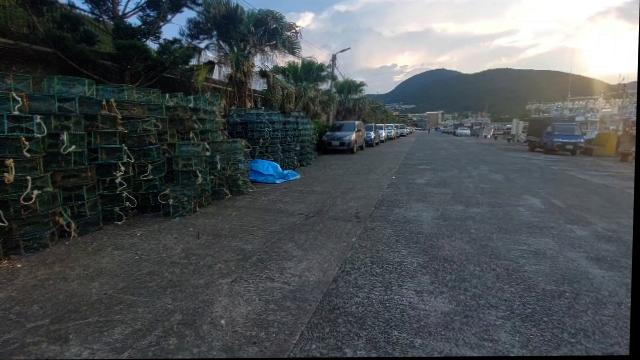pollute: (245, 156, 301, 186)
